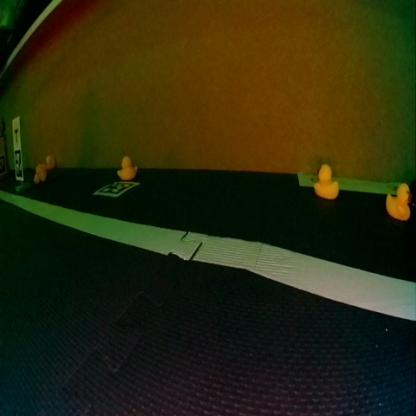Duckie: (386, 182, 410, 219), (314, 164, 339, 198), (118, 156, 137, 179), (34, 163, 45, 178), (44, 155, 54, 166)
Intersection sign: (11, 117, 20, 146)
QR code: (95, 180, 136, 195), (14, 149, 22, 178)
